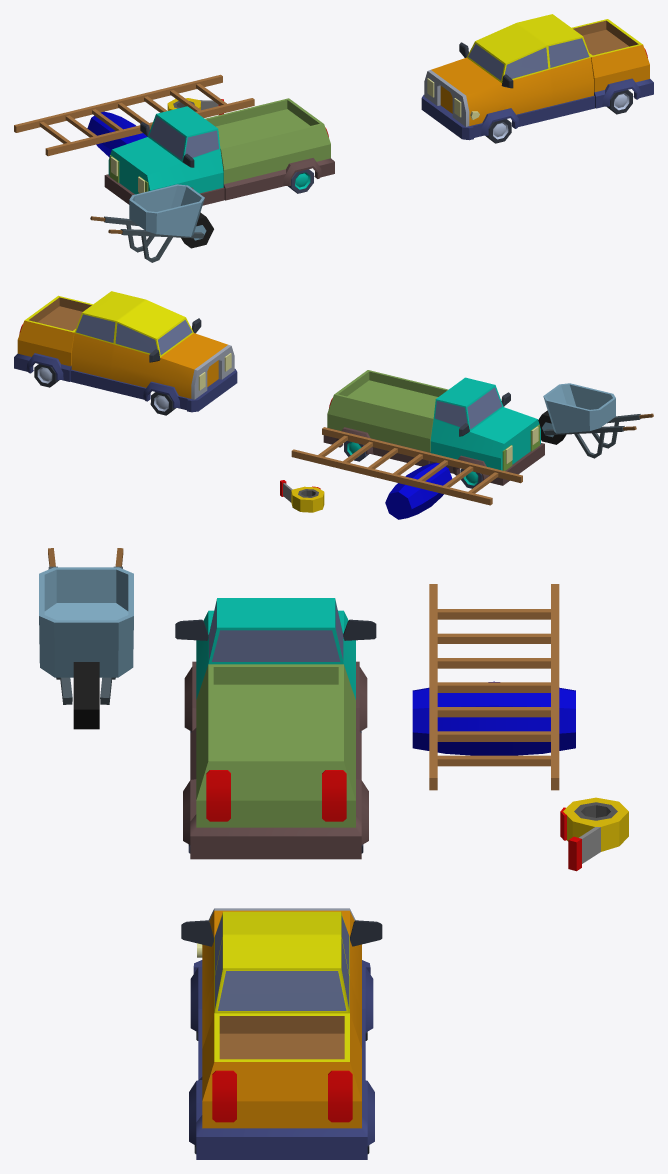
The model's file is Level_44 to 45.fbx.
The picture shows the model from 3 angles, top to bottom: view 1: azimuth 30°, elevation 25°; view 2: azimuth 150°, elevation 25°; view 3: azimuth 270°, elevation 25°; orthographic projection. The views are drawn at different scales.
Parts seen in each view (by area): view 1: Car_Truck_2, Truck_Car1, Trawly, Ladder, Box1, meaurement_tape; view 2: Car_Truck_2, Truck_Car1, Ladder, Trawly, Box1, meaurement_tape; view 3: Truck_Car1, Car_Truck_2, Trawly, Ladder, Box1, meaurement_tape.
Part boxes in pixels (x1,y1,x2,y2): Car_Truck_2: (421,14,653,143); Truck_Car1: (104,98,334,205); Trawly: (90,184,213,262); Ladder: (14,74,254,156); Box1: (87,111,147,157); meaurement_tape: (167,98,223,114); Car_Truck_2: (14,291,237,415); Truck_Car1: (323,370,544,488); Ladder: (291,427,522,505); Trawly: (538,383,653,458); Box1: (385,462,452,519); meaurement_tape: (280,480,324,512); Truck_Car1: (175,598,376,859); Car_Truck_2: (181,908,382,1159); Trawly: (39,548,133,729); Ladder: (429,584,559,790); Box1: (412,681,575,755); meaurement_tape: (560,797,628,871).
Size of the model in its own units: 27.42 by 3.59 by 12.5.
